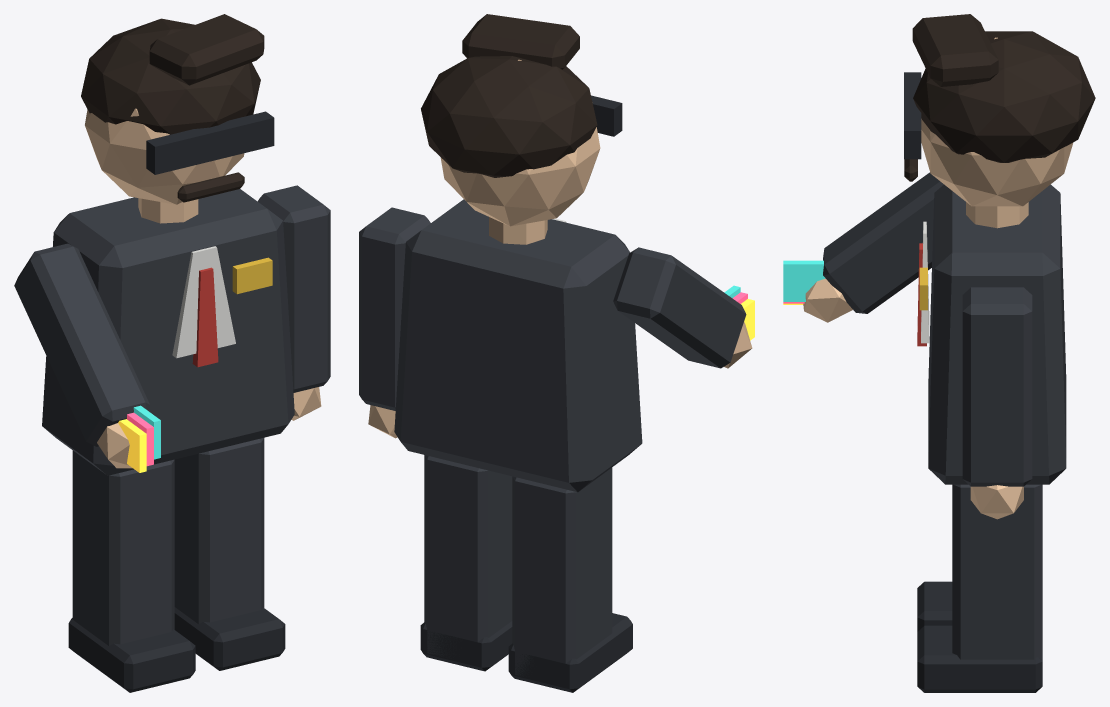
The model's file is impersonator.glb.
The picture shows the model from 3 angles, left to right: view 1: azimuth 30°, elevation 25°; view 2: azimuth 150°, elevation 25°; view 3: azimuth 270°, elevation 25°; orthographic projection. The views are drawn at different scales.
Parts seen in each view (by area): view 1: Body, LegR, LegL, ArmR, Props, ArmL; view 2: Body, LegR, LegL, ArmR, ArmL, Props; view 3: Body, LegL, ArmL, ArmR, Props, LegR.
Part boxes in pixels (<box>): Body: <box>42,14,294,475</box>; LegR: <box>68,450,195,692</box>; LegL: <box>174,438,285,670</box>; ArmR: <box>14,243,160,472</box>; Props: <box>146,111,274,367</box>; ArmL: <box>257,185,330,420</box>; Body: <box>394,14,642,492</box>; LegR: <box>508,467,632,692</box>; LegL: <box>420,455,512,671</box>; ArmR: <box>613,247,754,368</box>; ArmL: <box>359,207,430,438</box>; Props: <box>552,95,622,222</box>; Body: <box>912,14,1095,484</box>; LegL: <box>917,484,1042,692</box>; ArmL: <box>962,287,1032,519</box>; ArmR: <box>783,172,943,322</box>; Props: <box>904,72,929,346</box>; LegR: <box>917,581,952,631</box>.
Bounding box in the file's own units: 0.5005 × 1 × 0.4492.
